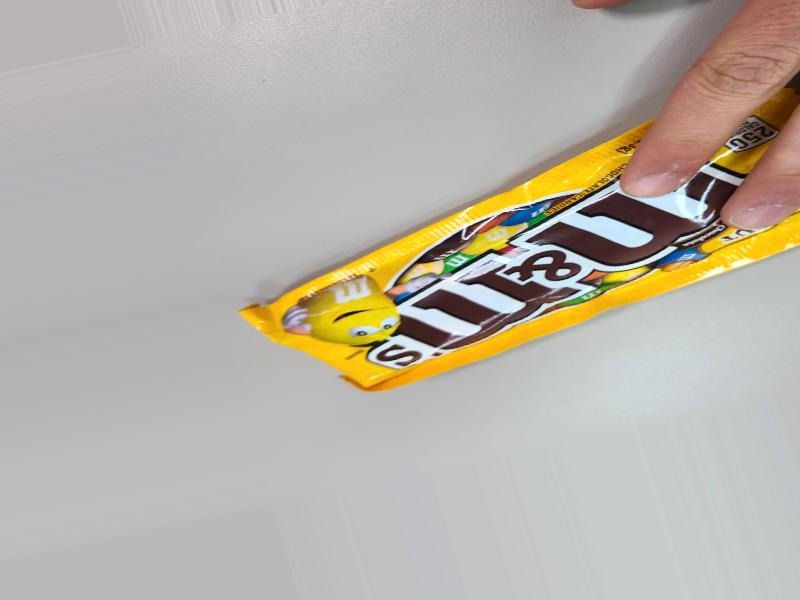m&m: (262, 89, 694, 494)
